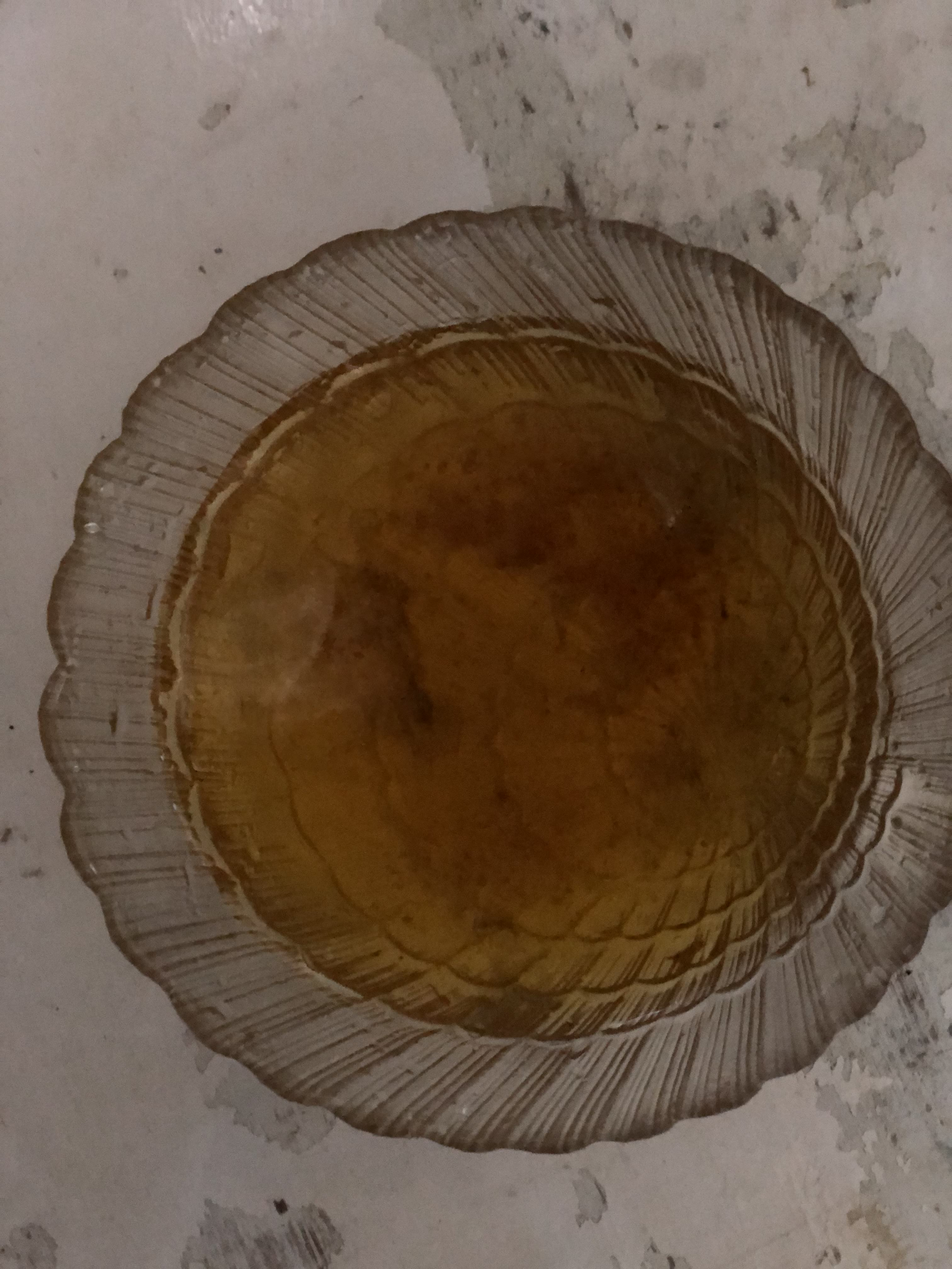reusable: (164, 321, 878, 1029)
